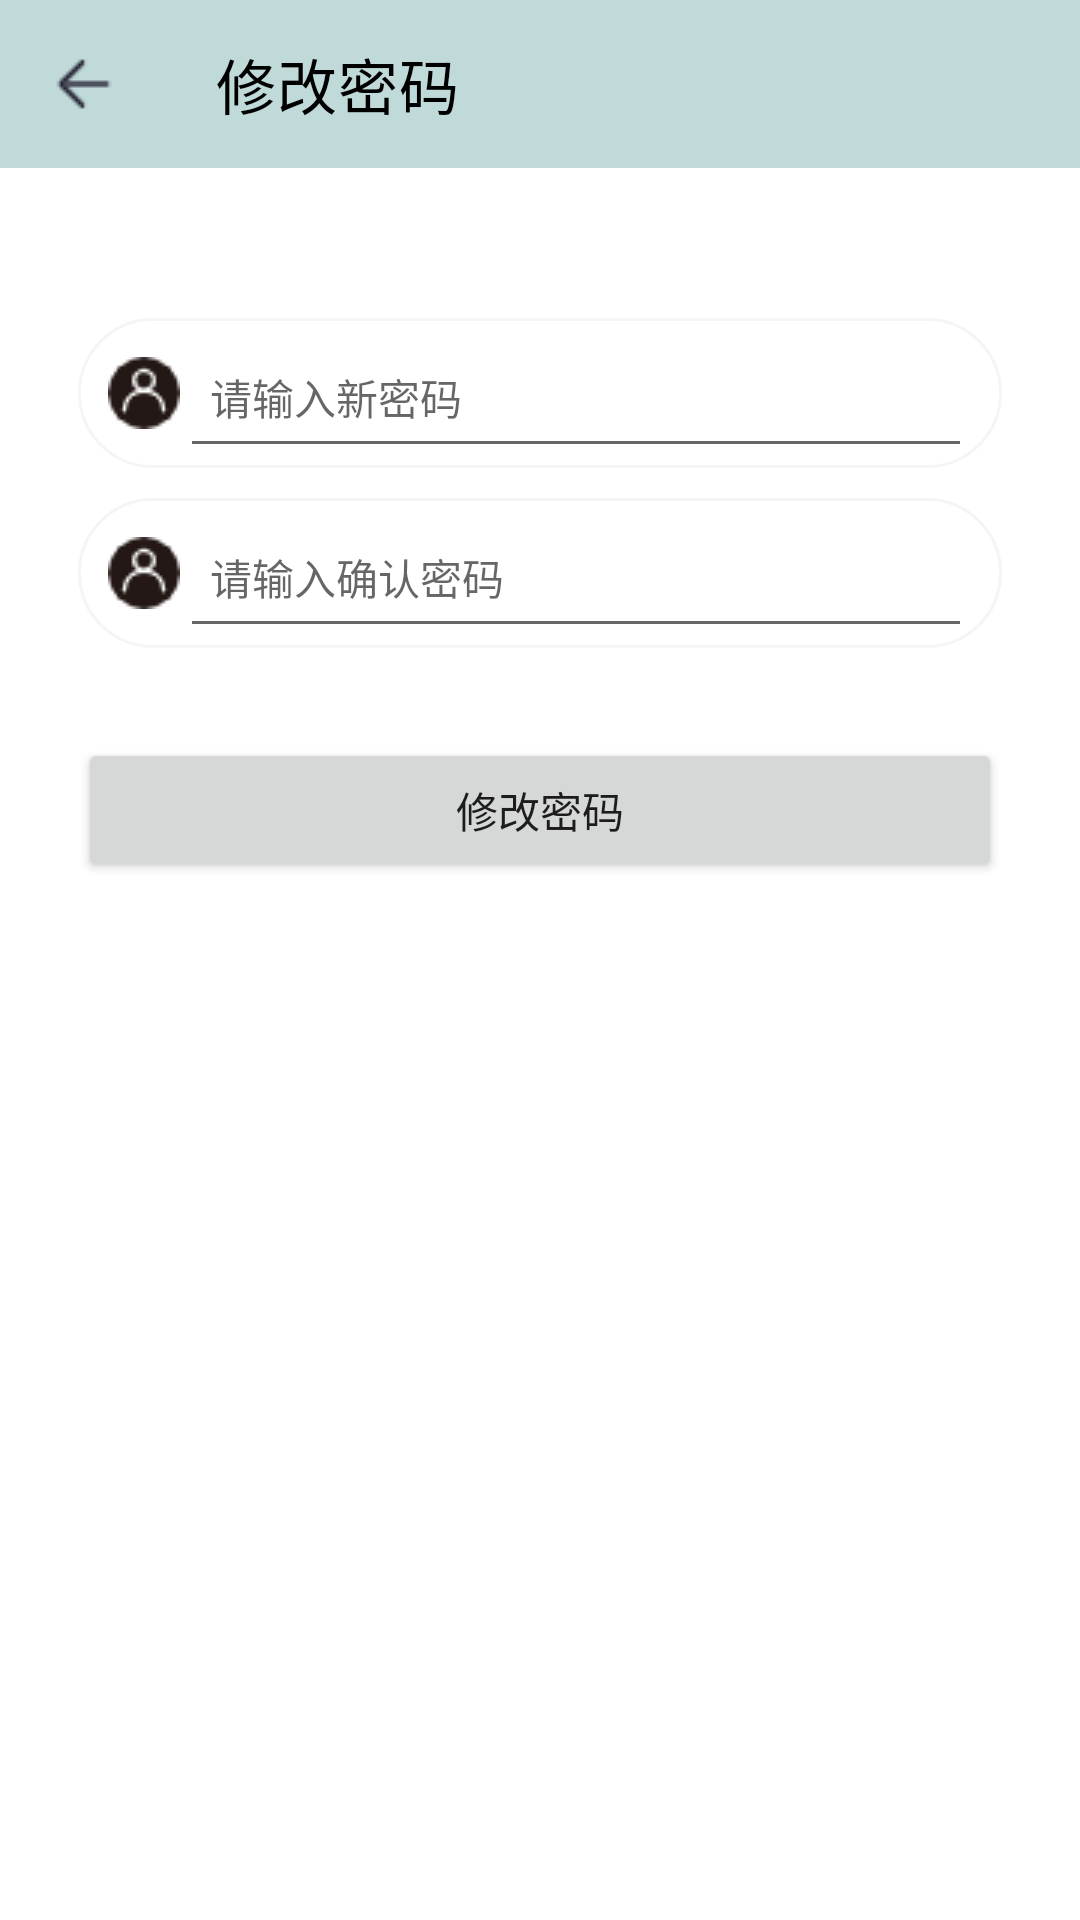

Named icons in this screenshot (1080 x 1920) and their bounding boxes, (x1=x1, y1=y1, x2=x2, y2=y2):
login: (x1=108, y1=357, x2=180, y2=429), (x1=108, y1=537, x2=180, y2=609)
